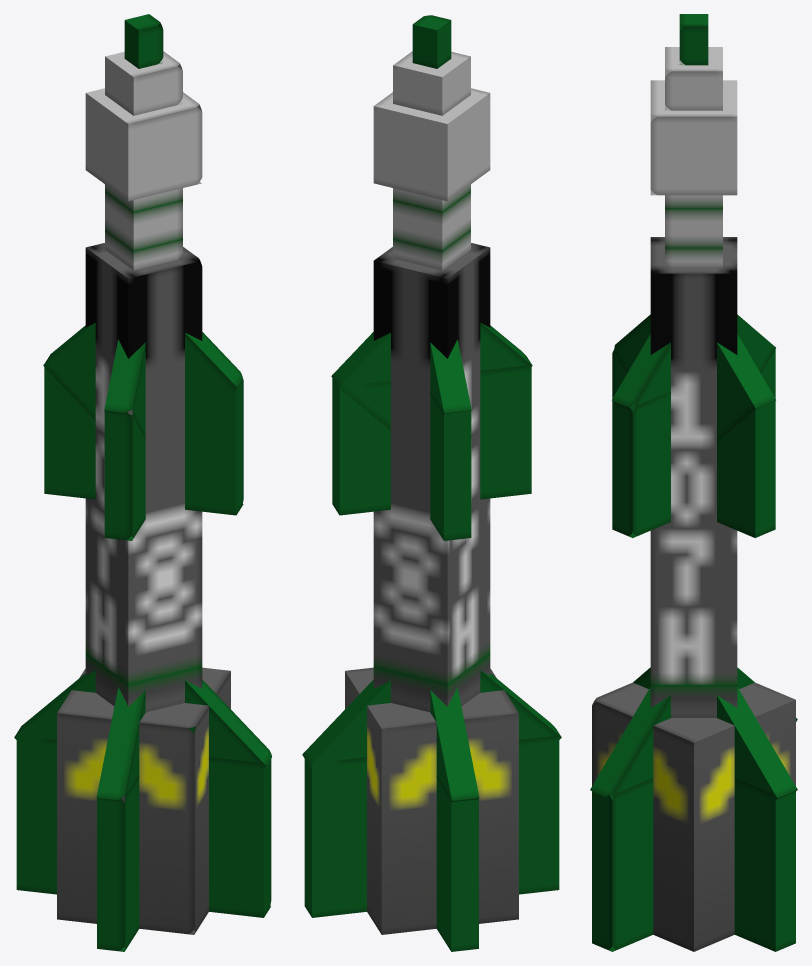
File: missile_homing.obj
3 views of the same model, side by side, from view 1: azimuth 30°, elevation 25°; view 2: azimuth 150°, elevation 25°; view 3: azimuth 270°, elevation 25° (orthographic).
Visible parts, largest first — view 1: MAIN_MODULE, MOTOR_MODULE, WING_2A, WING_4A, WARHEAD_2, WING_1A, WING_4B, WARHEAD_1, WING_3A, WING_2B, WARHEAD_3, WING_1B (+2 smaller); view 2: MAIN_MODULE, MOTOR_MODULE, WING_1A, WING_3A, WARHEAD_2, WING_2A, WARHEAD_1, WING_4A, WING_3B, WING_1B, WARHEAD_3, WING_2B (+2 smaller); view 3: MAIN_MODULE, MOTOR_MODULE, WING_2A, WING_1A, WARHEAD_2, WING_4A, WING_3A, WING_3B, WARHEAD_1, WING_2B, WING_1B, WING_4B (+2 smaller).
Boxes of the visible parts, x1=… form: MAIN_MODULE: x1=85, y1=243, x2=202, y2=712; MOTOR_MODULE: x1=57, y1=667, x2=230, y2=934; WING_2A: x1=16, y1=735, x2=271, y2=917; WING_4A: x1=44, y1=367, x2=243, y2=515; WARHEAD_2: x1=85, y1=88, x2=202, y2=201; WING_1A: x1=97, y1=774, x2=139, y2=951; WING_4B: x1=43, y1=322, x2=242, y2=430; WARHEAD_1: x1=105, y1=184, x2=182, y2=270; WING_3A: x1=104, y1=408, x2=145, y2=540; WING_2B: x1=14, y1=670, x2=271, y2=767; WARHEAD_3: x1=105, y1=51, x2=182, y2=115; WING_1B: x1=96, y1=687, x2=145, y2=801; MAIN_MODULE: x1=373, y1=243, x2=490, y2=712; MOTOR_MODULE: x1=345, y1=667, x2=518, y2=934; WING_1A: x1=304, y1=735, x2=559, y2=917; WING_3A: x1=332, y1=365, x2=531, y2=515; WARHEAD_2: x1=373, y1=88, x2=490, y2=201; WING_2A: x1=436, y1=774, x2=478, y2=951; WARHEAD_1: x1=393, y1=184, x2=470, y2=270; WING_4A: x1=430, y1=391, x2=471, y2=540; WING_3B: x1=331, y1=322, x2=532, y2=430; WING_1B: x1=302, y1=670, x2=561, y2=767; WARHEAD_3: x1=393, y1=51, x2=470, y2=115; WING_2B: x1=430, y1=687, x2=479, y2=802; MAIN_MODULE: x1=650, y1=237, x2=737, y2=717; MOTOR_MODULE: x1=592, y1=682, x2=795, y2=951; WING_2A: x1=592, y1=778, x2=653, y2=951; WING_1A: x1=734, y1=778, x2=795, y2=951; WARHEAD_2: x1=650, y1=80, x2=737, y2=195; WING_4A: x1=612, y1=349, x2=775, y2=537; WING_3A: x1=612, y1=349, x2=775, y2=537; WING_3B: x1=614, y1=314, x2=775, y2=441; WARHEAD_1: x1=665, y1=195, x2=722, y2=267; WING_2B: x1=590, y1=667, x2=797, y2=800; WING_1B: x1=633, y1=667, x2=797, y2=799; WING_4B: x1=612, y1=314, x2=775, y2=441.
Bounding box in the file's own units: 0.9009 × 4.25 × 0.9009.
